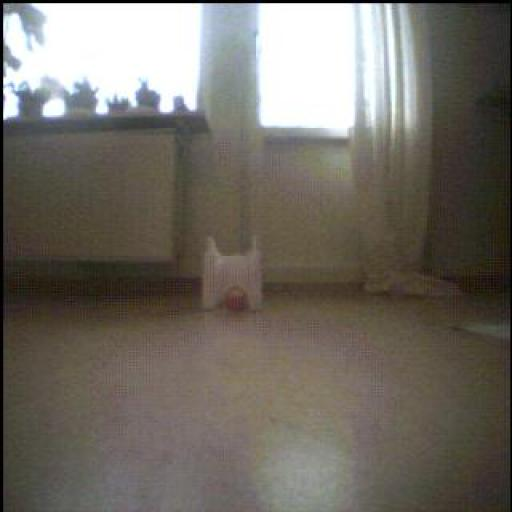Basket: (224, 285, 252, 316)
